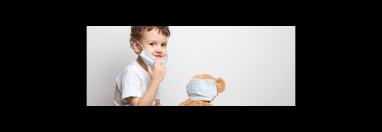mask_weared_incorrect: (145, 37, 169, 67)
